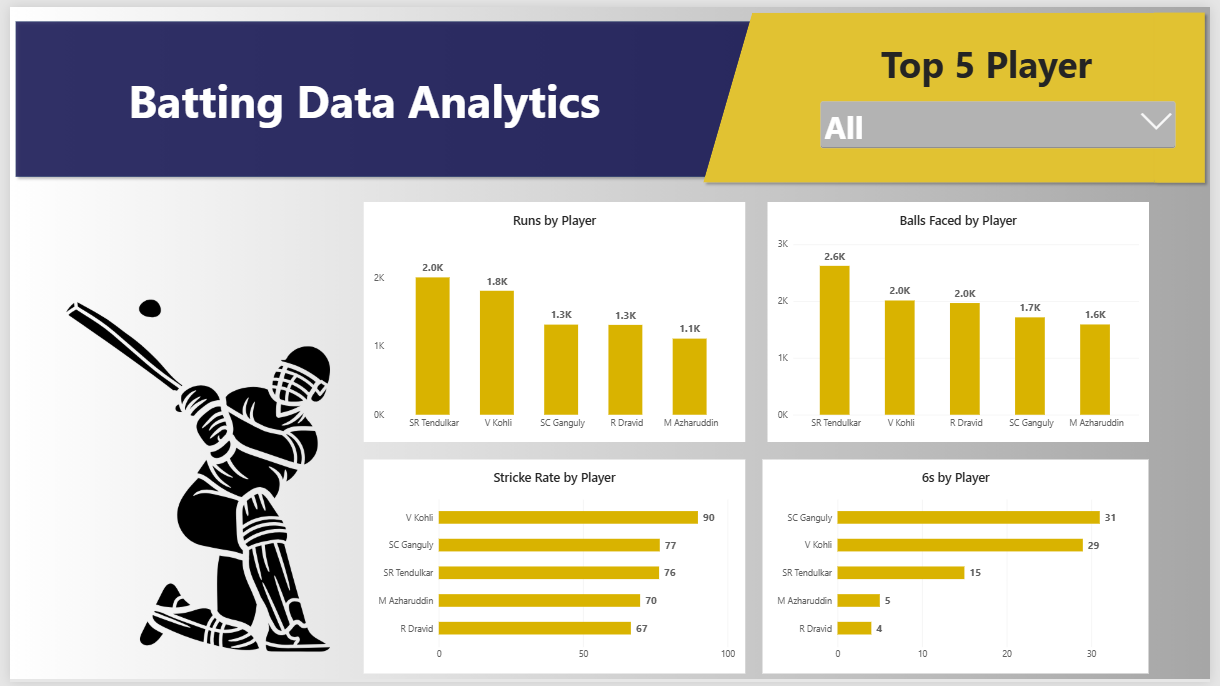

This screenshot's page, from the dashboard's own definition file:
{"tool":"powerbi","page":{"name":"Batting Analytics","canvas":[1920,1080],"ordinal":3},"visuals":[{"type":"group","id":"g1","title":"Group 1","box":[0,0,1920,290],"z":0},{"type":"shape","box":[0,13.3,1226.7,266.7],"z":0,"group":"g1"},{"type":"shape","box":[1100,0,818,290],"z":1000,"group":"g1"},{"type":"textbox","box":[1302.5,50,520,110],"z":1000},{"type":"shape","box":[1821.4,0,98.6,290],"z":2000,"group":"g1"},{"type":"textbox","box":[113.3,100,905,117.5],"z":2000},{"type":"columnChart","title":"Runs by Player","fields":{"Category":["Batting.Player"],"Y":["Sum(Batting.Runs)"]},"box":[566,312,610,384],"z":3000},{"type":"barChart","title":"Stricke Rate by Player","fields":{"Category":["Batting.Player"],"Y":["Sum(Batting.SR)"]},"box":[565.6,724.4,610,342.2],"z":4000},{"type":"clusteredBarChart","title":" 6s by Player","fields":{"Category":["Batting.Player"],"Y":["Sum(Batting.6s)"]},"box":[1204.4,724.4,617.8,342.2],"z":5000},{"type":"clusteredColumnChart","title":"Balls Faced by Player","fields":{"Category":["Batting.Player"],"Y":["Sum(Batting.BF)"]},"box":[1212,312,610,384],"z":6000},{"type":"slicer","fields":{"Values":["Batting.Span"]},"box":[1292.5,145,577.5,105],"z":6002}]}

Visuals, with their boxes in screenshot pixels (x1, y1, x2, y2), scaled from the page's 1920x1080 canvas onto the 1220x686 screenshot:
"Group 1" group: (x1=0, y1=0, x2=1219, y2=184)
shape: (x1=0, y1=8, x2=779, y2=178)
shape: (x1=699, y1=0, x2=1219, y2=184)
textbox: (x1=828, y1=32, x2=1158, y2=102)
shape: (x1=1157, y1=0, x2=1219, y2=184)
textbox: (x1=72, y1=64, x2=647, y2=138)
"Runs by Player" columnChart: (x1=360, y1=198, x2=747, y2=442)
"Stricke Rate by Player" barChart: (x1=359, y1=460, x2=747, y2=677)
" 6s by Player" clusteredBarChart: (x1=765, y1=460, x2=1158, y2=677)
"Balls Faced by Player" clusteredColumnChart: (x1=770, y1=198, x2=1158, y2=442)
slicer - Batting.Span: (x1=821, y1=92, x2=1188, y2=159)
